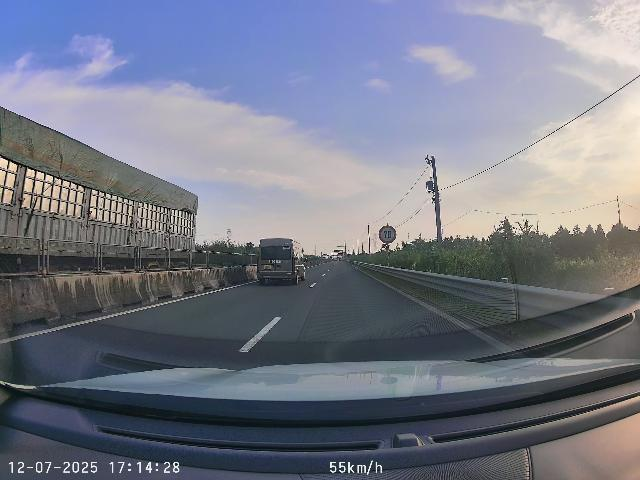127-toc-do-toi-da-70: (379, 225, 397, 244)
